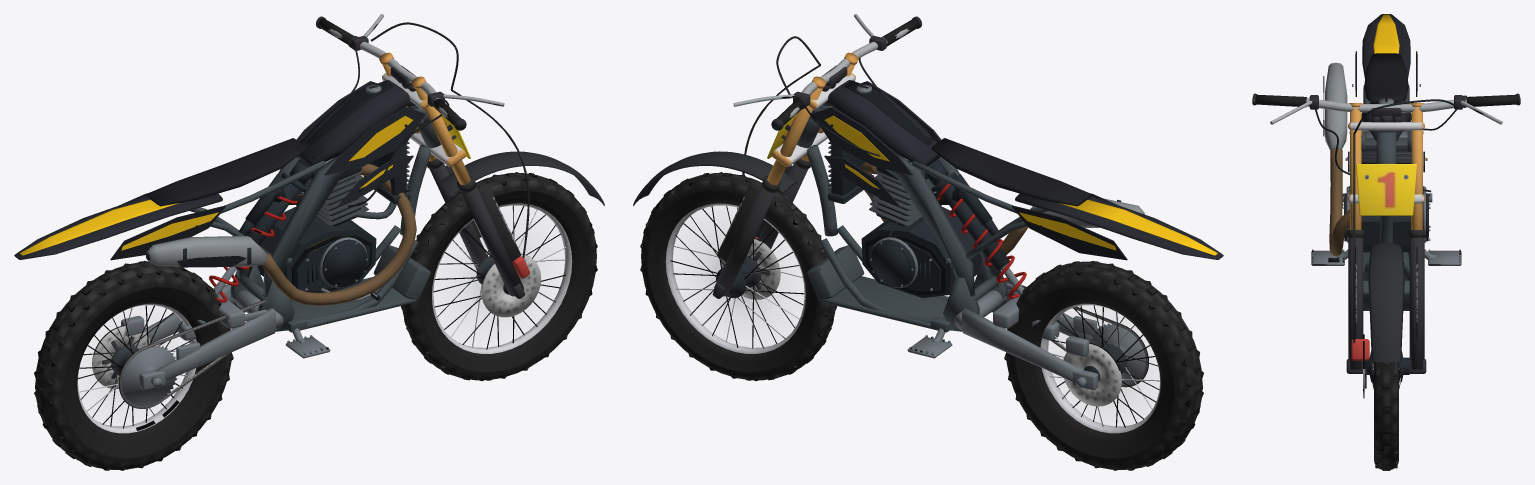
File: bike-pro.glb
3 renders of one model, left to right at view 1: azimuth 30°, elevation 25°; view 2: azimuth 150°, elevation 25°; view 3: azimuth 270°, elevation 25°, orthographic. The views are drawn at different scales.
Parts seen in each view (by area): view 1: wheel_rear, bodywork, wheel_front, frame, engine, exhaust, fork_lower, swingarm, handlebar, fork_upper, sprocket_rear, shock_body (+7 smaller); view 2: wheel_rear, bodywork, wheel_front, frame, engine, fork_lower, swingarm, handlebar, wheel_front_blur, fork_upper, shock_body, wheel_front_spokes (+6 smaller); view 3: fork_lower, fork_upper, bodywork, handlebar, wheel_front, exhaust, frame, engine, pegs, brake_hose.
Part boxes in pixels (x1=…): wheel_rear: x1=34, y1=260, x2=233, y2=470; bodywork: x1=14, y1=80, x2=425, y2=260; wheel_front: x1=401, y1=172, x2=597, y2=381; frame: x1=189, y1=105, x2=440, y2=332; engine: x1=257, y1=148, x2=380, y2=301; exhaust: x1=146, y1=163, x2=416, y2=305; fork_lower: x1=427, y1=151, x2=604, y2=298; swingarm: x1=121, y1=281, x2=283, y2=390; handlebar: x1=316, y1=14, x2=504, y2=207; fork_upper: x1=379, y1=52, x2=470, y2=184; sprocket_rear: x1=121, y1=345, x2=177, y2=406; shock_body: x1=234, y1=161, x2=312, y2=270; wheel_rear: x1=1004, y1=260, x2=1203, y2=470; bodywork: x1=812, y1=80, x2=1223, y2=260; wheel_front: x1=640, y1=172, x2=836, y2=381; frame: x1=797, y1=105, x2=1048, y2=332; engine: x1=861, y1=137, x2=982, y2=297; fork_lower: x1=633, y1=151, x2=810, y2=298; swingarm: x1=954, y1=282, x2=1098, y2=390; handlebar: x1=733, y1=14, x2=921, y2=236; wheel_front_blur: x1=697, y1=232, x2=779, y2=321; fork_upper: x1=767, y1=52, x2=858, y2=184; shock_body: x1=925, y1=161, x2=1009, y2=270; wheel_front_spokes: x1=670, y1=205, x2=804, y2=348; fork_lower: x1=1346, y1=229, x2=1426, y2=373; fork_upper: x1=1348, y1=103, x2=1424, y2=229; bodywork: x1=1345, y1=14, x2=1427, y2=172; handlebar: x1=1252, y1=93, x2=1520, y2=192; wheel_front: x1=1363, y1=334, x2=1409, y2=470; exhaust: x1=1323, y1=62, x2=1349, y2=256; frame: x1=1361, y1=85, x2=1411, y2=310; engine: x1=1328, y1=131, x2=1430, y2=262; pegs: x1=1311, y1=249, x2=1461, y2=265; brake_hose: x1=1353, y1=133, x2=1355, y2=343.
Bounding box in the file's own units: 2.07 × 1.2 × 0.875.
Materials: 7 (7 with a texture image).
